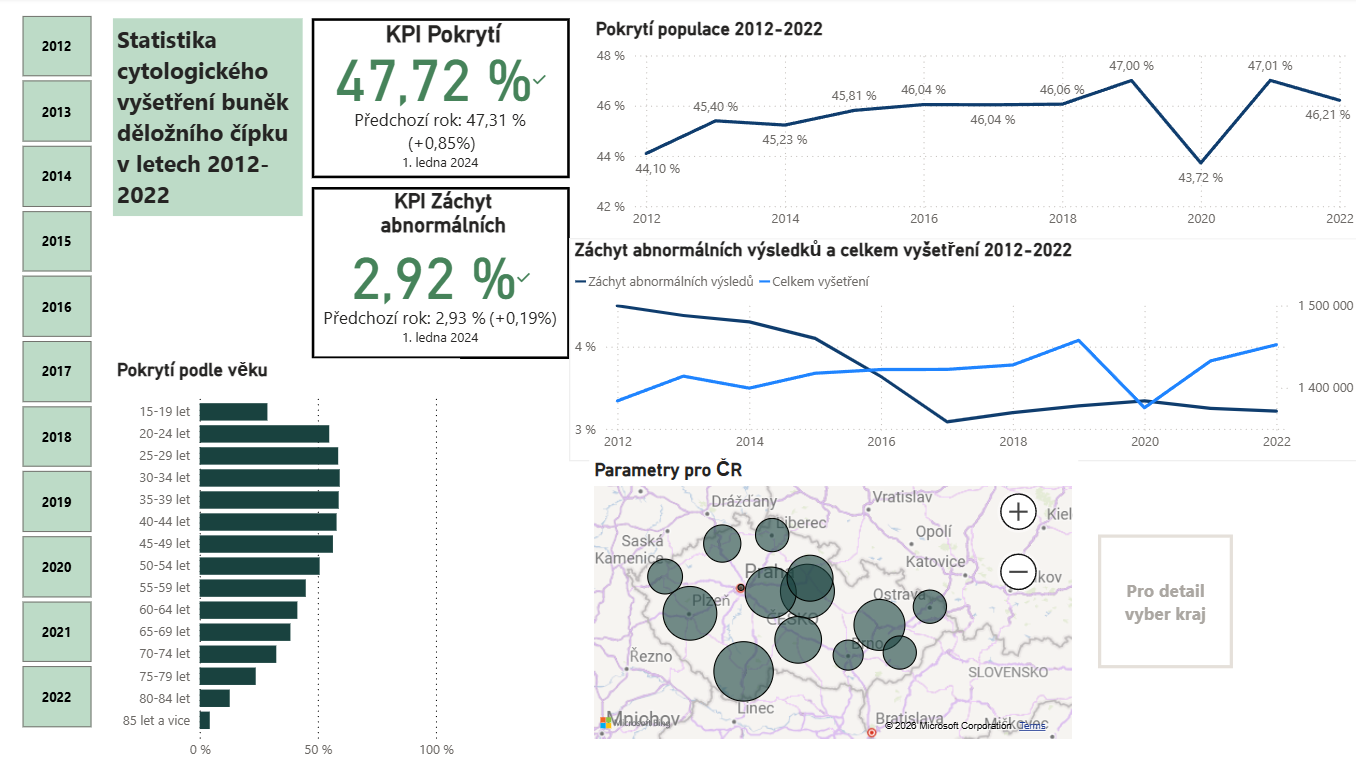

The page's visual inventory and layout, read from the dashboard file:
{"tool":"powerbi","page":{"name":"Přehled","canvas":[1280,720],"ordinal":0},"visuals":[{"type":"kpi","title":"KPI Pokrytí","fields":{"Indicator":["Fact_pokryti_populace.Celkove_pokryti"],"Goal":["Fact_pokryti_populace.Celkove_pokryti_PY"],"TrendLine":["Dim_roky.rok"]},"box":[18.6,500,258.1,160.5],"z":0},{"type":"kpi","title":"KPI Záchyt abnormálních","fields":{"Indicator":["Fact_podil_abnormalnich.podil_zachytu"],"Goal":["Fact_podil_abnormalnich.Podil_zachytu_PY"],"TrendLine":["Dim_roky.rok"]},"box":[291.9,500,266.3,160.5],"z":1000},{"type":"lineChart","title":"Pokrytí populace 2012-2022","fields":{"Category":["Dim_roky.rok.Variation.Date Hierarchy.Year"],"Y":["Fact_pokryti_populace.Celkove_pokryti"]},"box":[565.1,119.8,715.1,204.7],"z":2000},{"type":"map","title":"Parametry pro ČR","fields":{"Category":["Dim_kraje.kraj_nazev"],"Size":["Fact_pokryti_populace.Celkove_pokryti"]},"box":[565.1,324.4,603.5,336],"z":3000},{"type":"actionButton","box":[1177.9,450,90.7,130.2],"z":4000},{"type":"textbox","box":[18.6,95.3,546.5,367.4],"z":6000},{"type":"actionButton","box":[18.6,16.3,100,39.5],"z":7000},{"type":"actionButton","box":[118.6,16.3,100,39.5],"z":8000},{"type":"actionButton","box":[218.6,16.3,100,39.5],"z":9000},{"type":"slicer","fields":{"Values":["Dim_roky.rok"]},"box":[317.4,7,951.2,57],"z":9002}]}

Visuals, with their boxes in screenshot pixels (x1, y1, x2, y2), scaled from the page's 1280x720 canvas onto the 1356x763 screenshot:
"KPI Pokrytí" kpi: 20,530,293,700
"KPI Záchyt abnormálních" kpi: 309,530,591,700
"Pokrytí populace 2012-2022" lineChart: 599,127,1355,344
"Parametry pro ČR" map: 599,344,1238,700
actionButton: 1248,477,1344,615
textbox: 20,101,599,490
actionButton: 20,17,126,59
actionButton: 126,17,232,59
actionButton: 232,17,338,59
slicer - Dim_roky.rok: 336,7,1344,68
